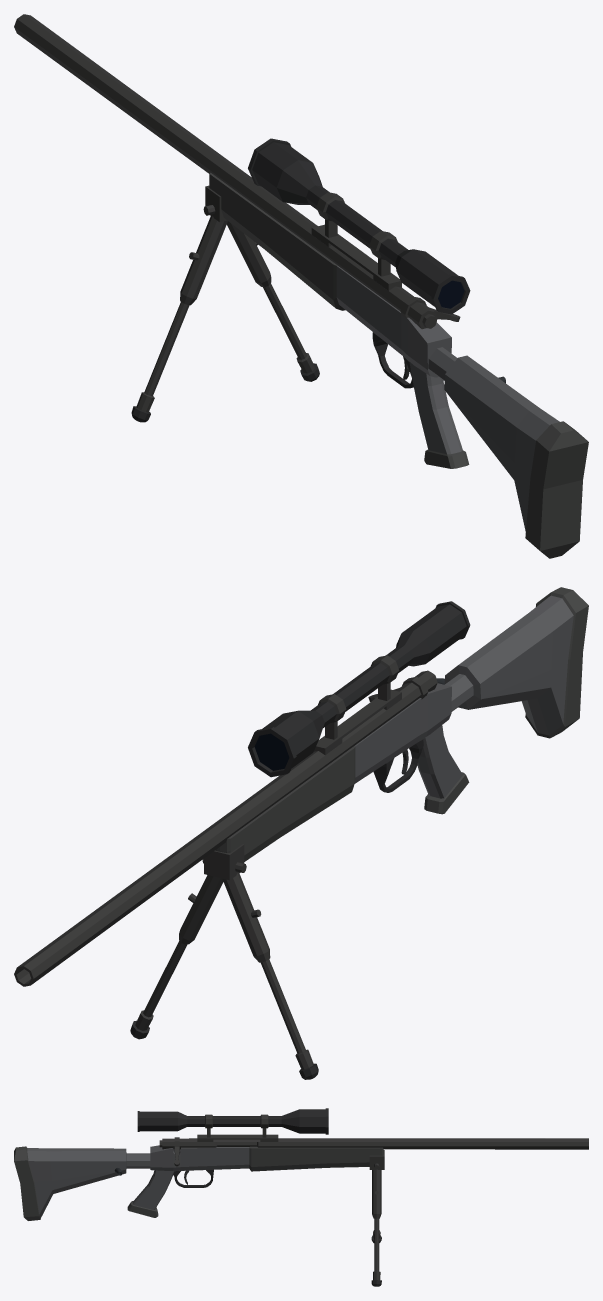
Rendered from sniper.glb.
3 renders of one model, top to bottom at view 1: azimuth 30°, elevation 25°; view 2: azimuth 150°, elevation 25°; view 3: azimuth 270°, elevation 25°, orthographic. The views are drawn at different scales.
Parts seen in each view (by area): view 1: WeaponBodyGeometry; view 2: WeaponBodyGeometry; view 3: WeaponBodyGeometry.
Boxes of the visible parts, x1,y1,x2,y2 form: WeaponBodyGeometry: (14,14,588,558); WeaponBodyGeometry: (14,587,588,1079); WeaponBodyGeometry: (14,1108,588,1286).
Size of the model in its own units: 0.3939 by 0.5996 by 2.
